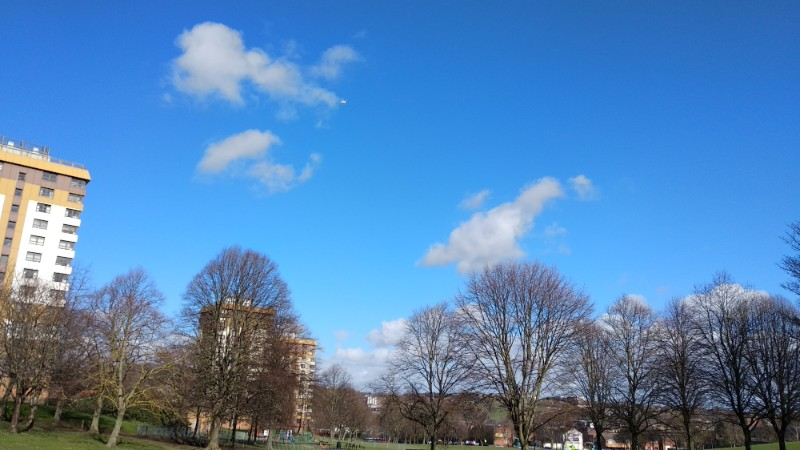drone: (338, 97, 347, 105)
